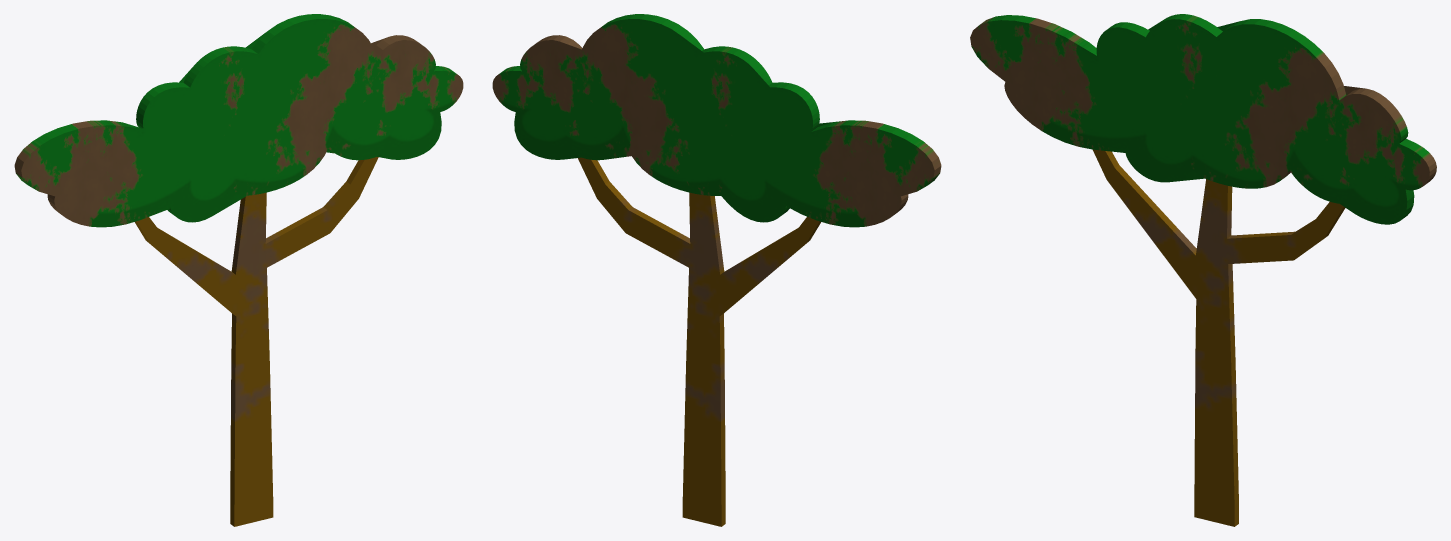
Rendered from Arbol3Junto.fbx.
3 views of the same model, side by side, from view 1: azimuth 30°, elevation 25°; view 2: azimuth 150°, elevation 25°; view 3: azimuth 330°, elevation 25° (orthographic). The views are drawn at different scales.
Visible parts, largest first — view 1: arbol 3; view 2: arbol 3; view 3: arbol 3.
Boxes of the visible parts, x1,y1,x2,y2 form: arbol 3: [14, 14, 463, 526]; arbol 3: [492, 14, 941, 526]; arbol 3: [970, 14, 1436, 526].
Size of the model in its own units: 669 by 708 by 17.73.
